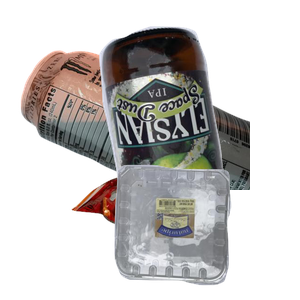glass: (97, 24, 300, 204)
metal: (18, 48, 258, 228)
plastic: (112, 162, 300, 300)
trash: (69, 153, 239, 300)
